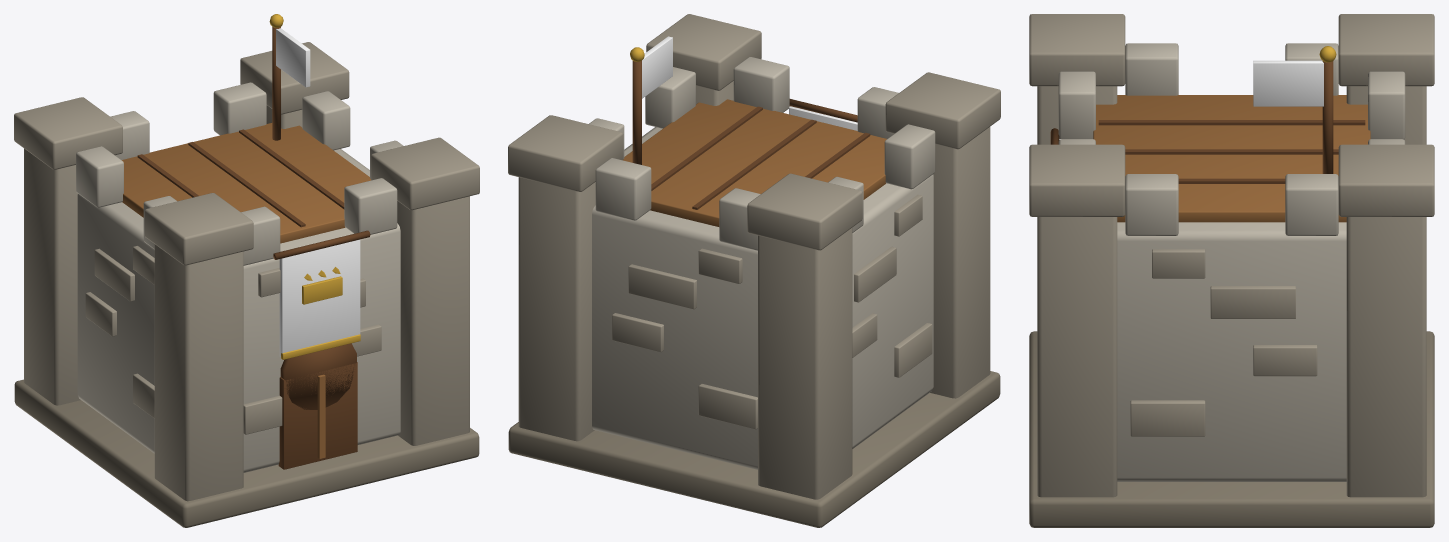
File: king_tower.glb
3 views of the same model, side by side, from view 1: azimuth 30°, elevation 25°; view 2: azimuth 150°, elevation 25°; view 3: azimuth 270°, elevation 25° (orthographic). The views are drawn at different scales.
Parts seen in each view (by area): view 1: SK_king_tower; view 2: SK_king_tower; view 3: SK_king_tower.
Boxes of the visible parts, x1,y1,x2,y2 form: SK_king_tower: [14, 14, 479, 527]; SK_king_tower: [508, 14, 1000, 527]; SK_king_tower: [1029, 14, 1434, 527].
Size of the model in its own units: 3.8 by 4.53 by 3.8.
